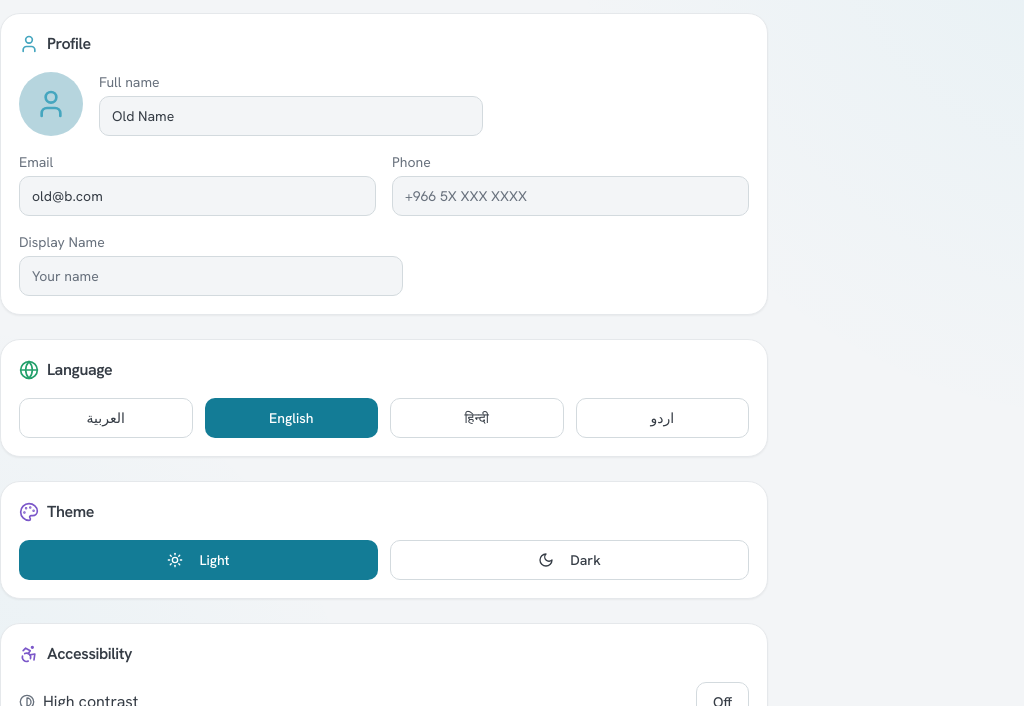
Test: UserProfile — account editing (#203) › rejects an invalid email before calling the server
The image size is (1024, 706).
Replace the text in the field labelled "Email" with "not-an-email" at (198, 196), box [19, 176, 376, 216]
(page scrolled)
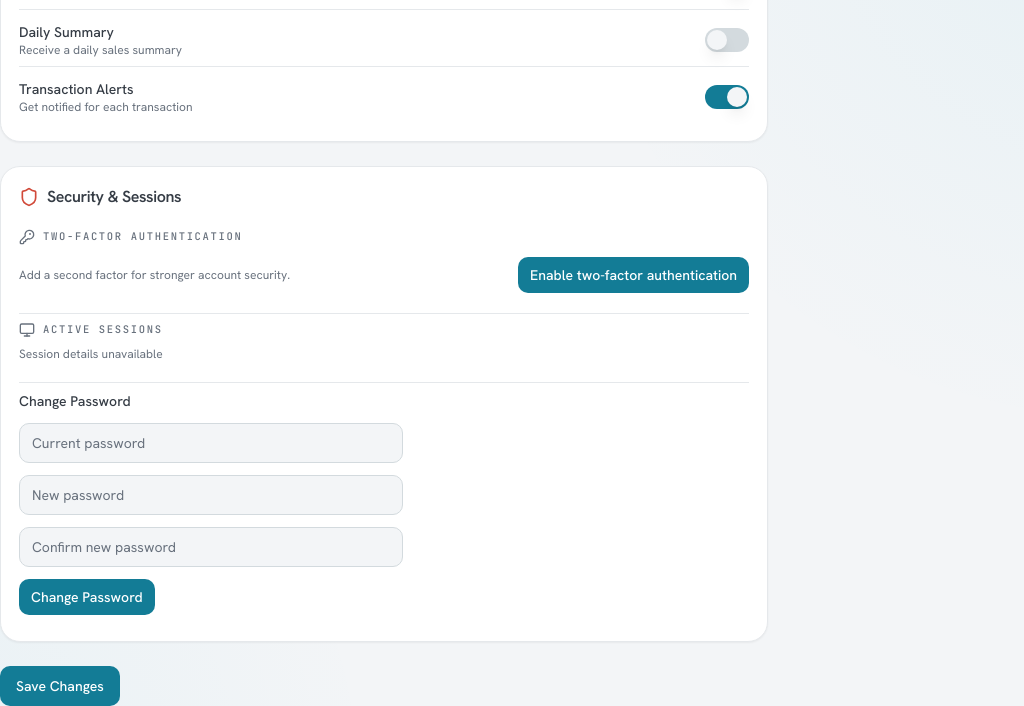
Click the button "Save Changes" at (60, 686), box [0, 666, 120, 705]
(page scrolled)
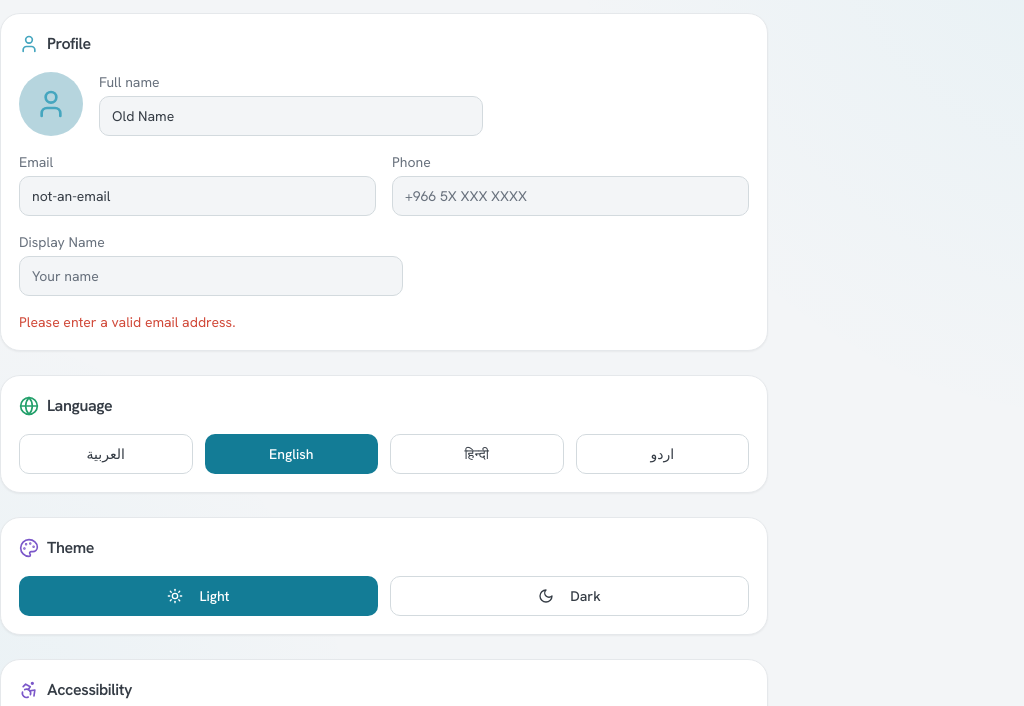
Expected: the text "Please enter a valid email address." is shown, [19, 313, 236, 331]
